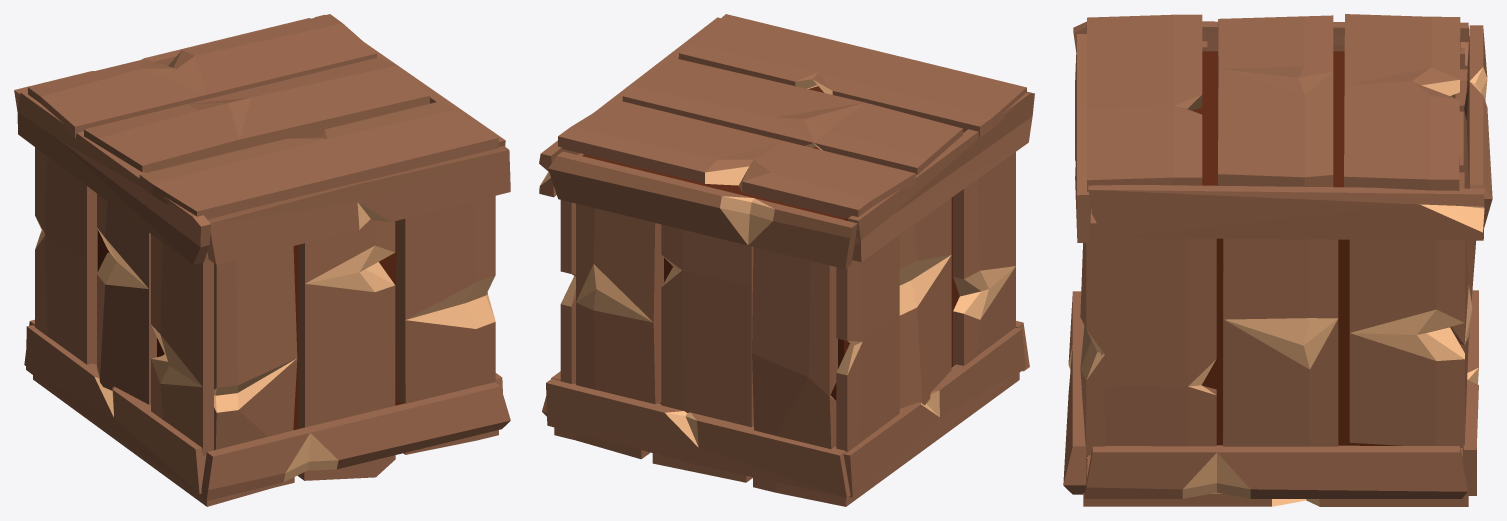
The model's file is CajaPequeña1.FBX.
3 views of the same model, side by side, from view 1: azimuth 30°, elevation 25°; view 2: azimuth 150°, elevation 25°; view 3: azimuth 270°, elevation 25° (orthographic). The views are drawn at different scales.
Visible parts, largest first — view 1: Box001; view 2: Box001; view 3: Box001.
Part boxes in pixels (x1=…): Box001: x1=14, y1=14, x2=510, y2=506; Box001: x1=539, y1=14, x2=1034, y2=506; Box001: x1=1063, y1=14, x2=1492, y2=506.
Bounding box in the file's own units: 104 × 109 × 98.56.
1 material, 1 textured.
